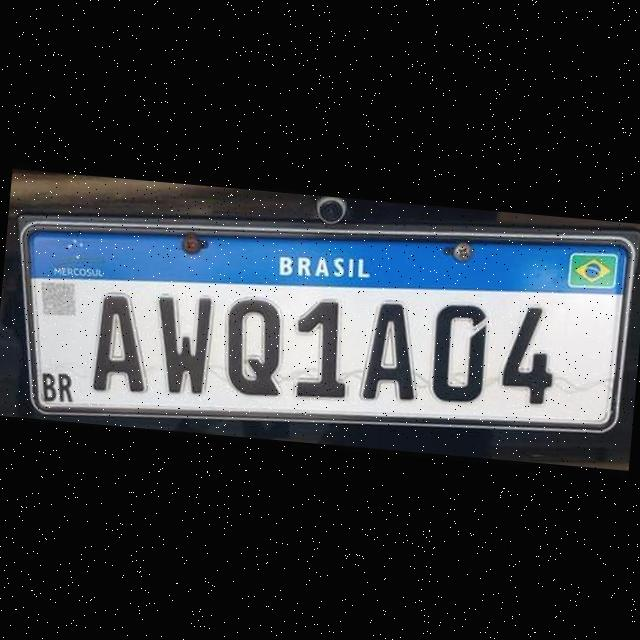Caractere: (218, 293, 293, 400), (289, 292, 358, 402), (147, 288, 216, 398), (358, 296, 426, 406), (88, 288, 155, 398), (427, 298, 490, 406), (498, 300, 558, 404)
Placa: (6, 184, 640, 463)
